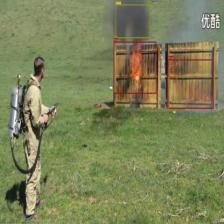fire: (168, 59, 214, 108), (114, 41, 156, 94)
smoke: (116, 4, 150, 38)
